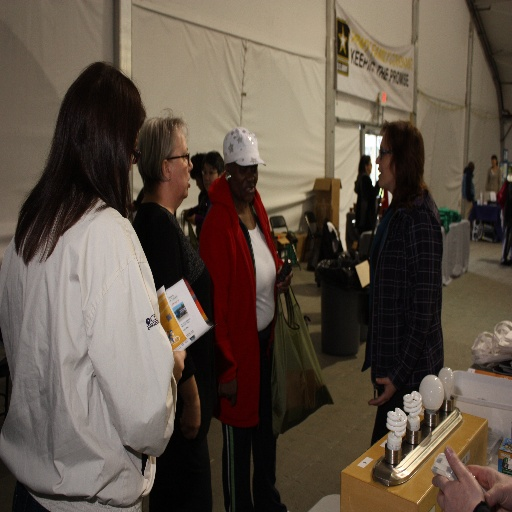hand: (429, 448, 483, 511), (465, 465, 511, 511), (180, 395, 201, 444), (370, 376, 397, 408), (218, 379, 237, 408), (275, 266, 293, 295), (173, 348, 186, 385)
